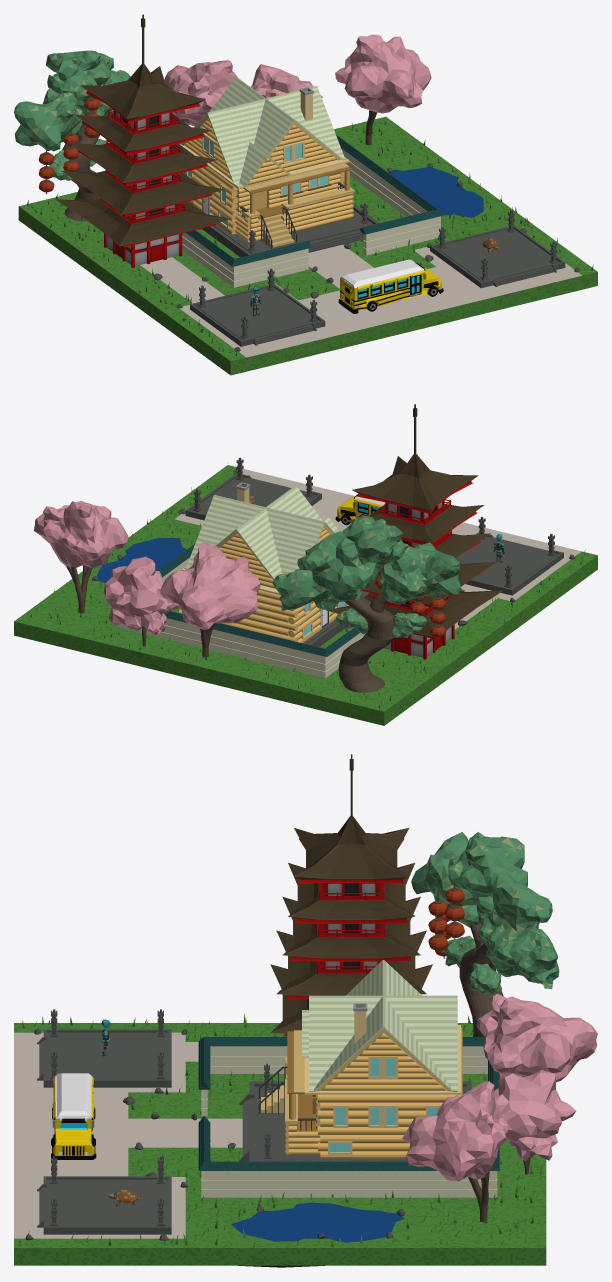
The picture shows the model from 3 angles, top to bottom: view 1: azimuth 30°, elevation 25°; view 2: azimuth 150°, elevation 25°; view 3: azimuth 270°, elevation 25°; orthographic projection. The views are drawn at different scales.
Parts seen in each view (by area): view 1: Cube.005, Cube.1516, VEHICLES_SCHOOL_BUS; view 2: Cube.005, Cube.1516, VEHICLES_SCHOOL_BUS; view 3: Cube.005, Cube.1516, VEHICLES_SCHOOL_BUS.
Part boxes in pixels (<box>): Cube.005: <box>14,14,597,375</box>; Cube.1516: <box>179,77,354,248</box>; VEHICLES_SCHOOL_BUS: <box>338,259,443,313</box>; Cube.005: <box>14,404,597,725</box>; Cube.1516: <box>178,482,359,643</box>; VEHICLES_SCHOOL_BUS: <box>335,493,385,525</box>; Cube.005: <box>14,754,597,1265</box>; Cube.1516: <box>258,960,462,1158</box>; VEHICLES_SCHOOL_BUS: <box>51,1073,96,1159</box>.
Bounding box in the file's own units: 4528 × 2756 × 4389.
51 materials, 6 textured.
